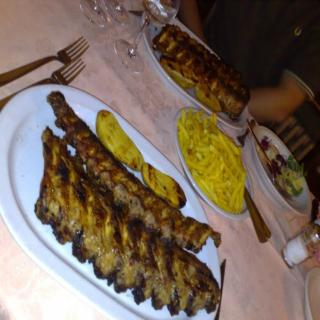French fries: (178, 109, 250, 210)
